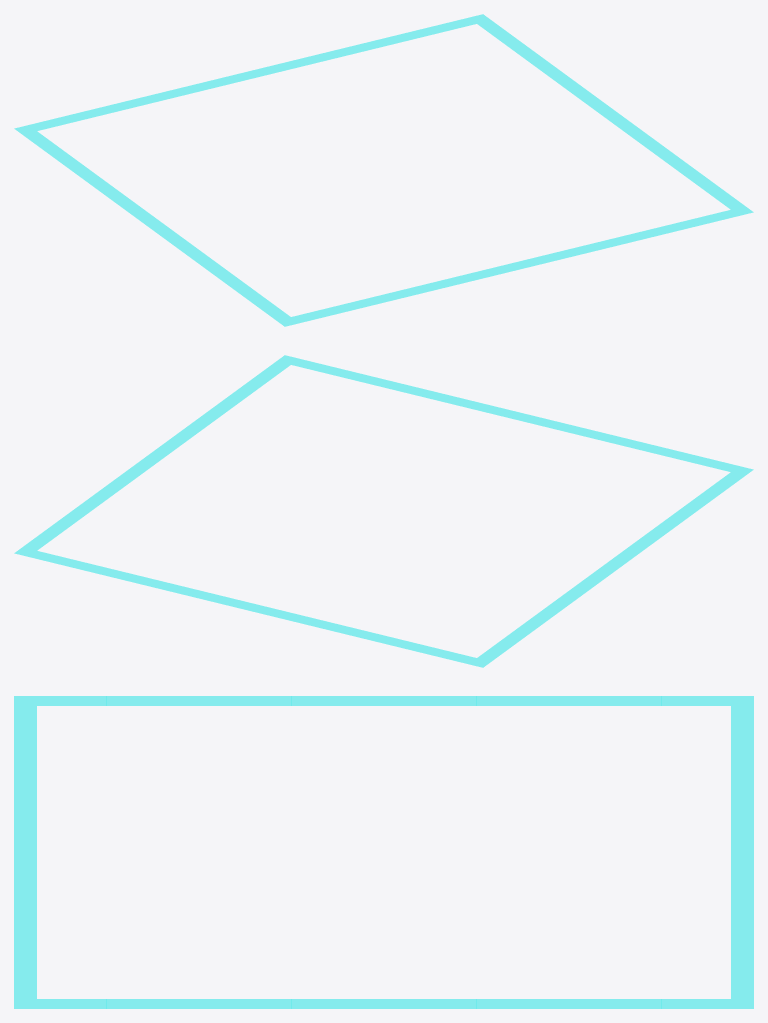
Rendered from trackingSpacev18.fbx.
3 renders of one model, top to bottom at view 1: azimuth 30°, elevation 25°; view 2: azimuth 150°, elevation 25°; view 3: azimuth 270°, elevation 25°, orthographic. The views are drawn at different scales.
Parts seen in each view (by area): view 1: Plane.037; view 2: Plane.037; view 3: Plane.037.
Boxes of the visible parts, bbox=[...] form: Plane.037: bbox=[14, 14, 753, 326]; Plane.037: bbox=[14, 355, 753, 667]; Plane.037: bbox=[14, 696, 753, 1008].
Size of the model in its own units: 197 by 3.21e-05 by 197.
Materials: 1 (1 with a texture image).
